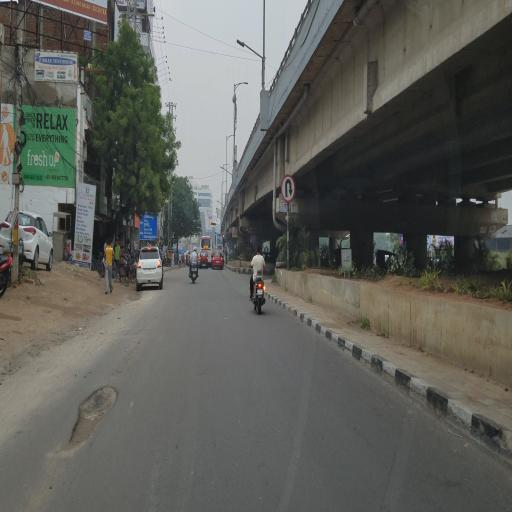street_light_0: (234, 33, 262, 61), (230, 64, 254, 94), (216, 156, 232, 178), (225, 126, 239, 140)
